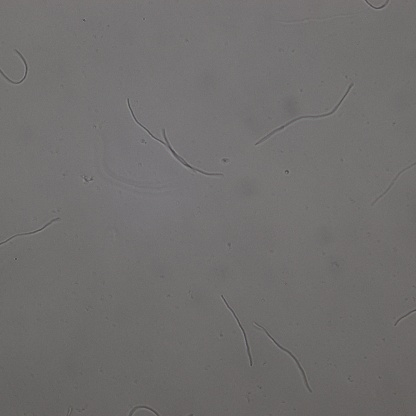Sensitive: (256, 83, 352, 145), (126, 98, 194, 173), (255, 322, 313, 392), (162, 129, 224, 177), (223, 295, 253, 365), (374, 163, 416, 204), (1, 217, 60, 246), (1, 48, 29, 84)
